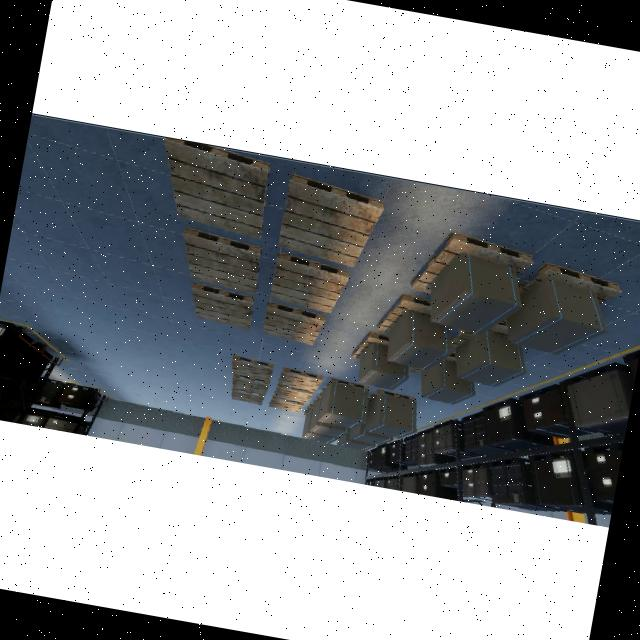wooden_pallet: (163, 138, 269, 239), (278, 171, 384, 267), (410, 230, 534, 294), (182, 226, 261, 295), (269, 251, 349, 313), (517, 260, 621, 305), (193, 281, 255, 328), (262, 300, 326, 345), (376, 293, 431, 333), (278, 367, 323, 392), (232, 355, 274, 381), (232, 373, 270, 394), (274, 384, 313, 403), (268, 395, 304, 413), (231, 388, 265, 405)
